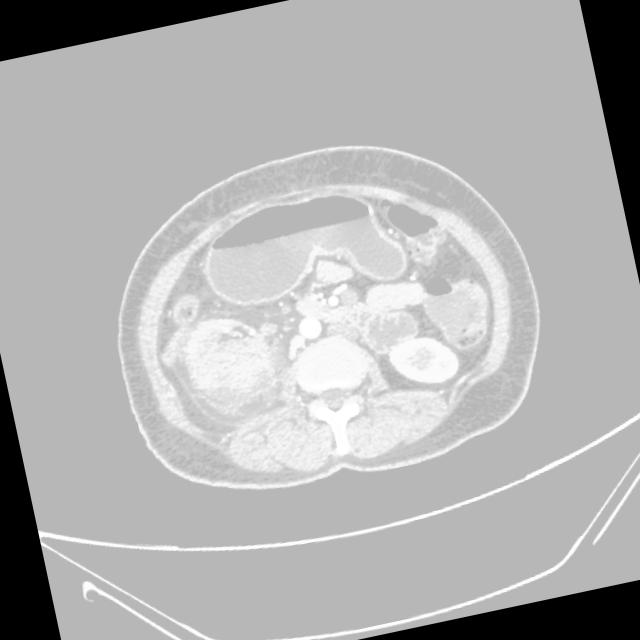TUMOR: (119, 153, 549, 405)
